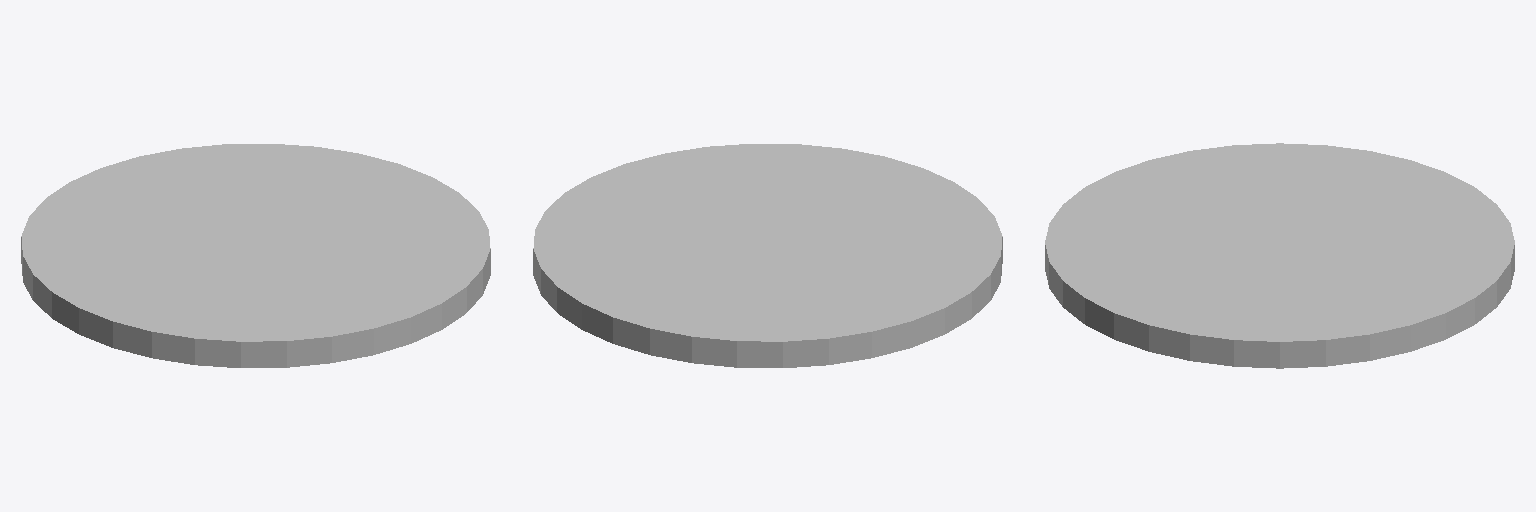
File: stove.obj
3 renders of one model, left to right at view 1: azimuth 30°, elevation 25°; view 2: azimuth 150°, elevation 25°; view 3: azimuth 270°, elevation 25°, orthographic.
Parts seen in each view (by area): view 1: Cylinder.003_Cylinder; view 2: Cylinder.003_Cylinder; view 3: Cylinder.003_Cylinder.
Boxes of the visible parts, x1,y1,x2,y2 form: Cylinder.003_Cylinder: [21, 144, 490, 367]; Cylinder.003_Cylinder: [533, 144, 1002, 367]; Cylinder.003_Cylinder: [1045, 143, 1514, 368].
Size of the model in its own units: 0.8 by 0.05 by 0.8.